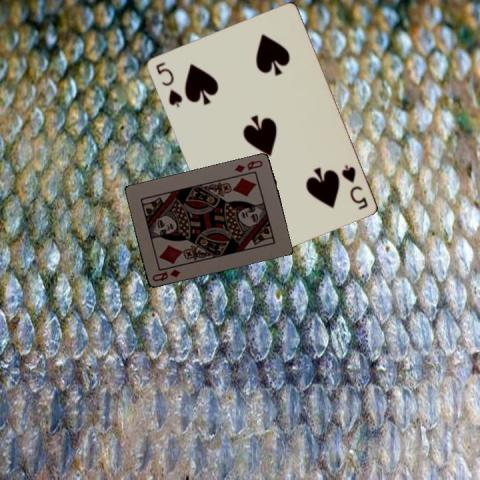5s: (152, 58, 183, 108), (338, 161, 369, 211)
Qd: (149, 266, 182, 283), (231, 157, 264, 174)
